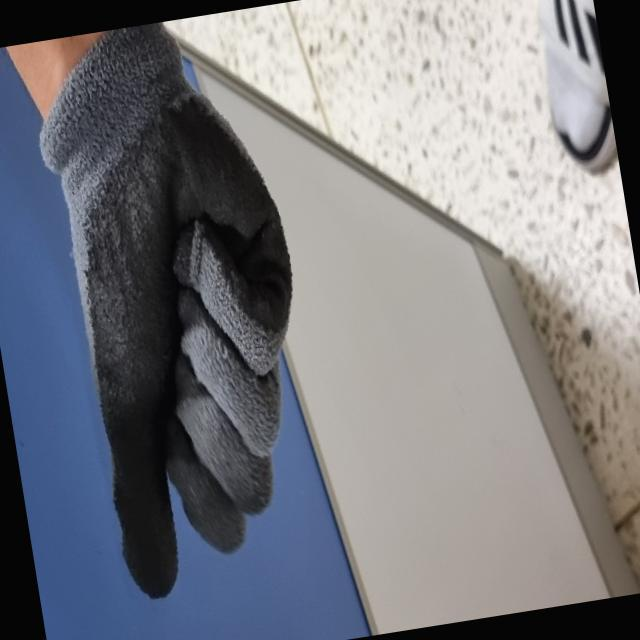Gloves: (35, 15, 302, 604)
